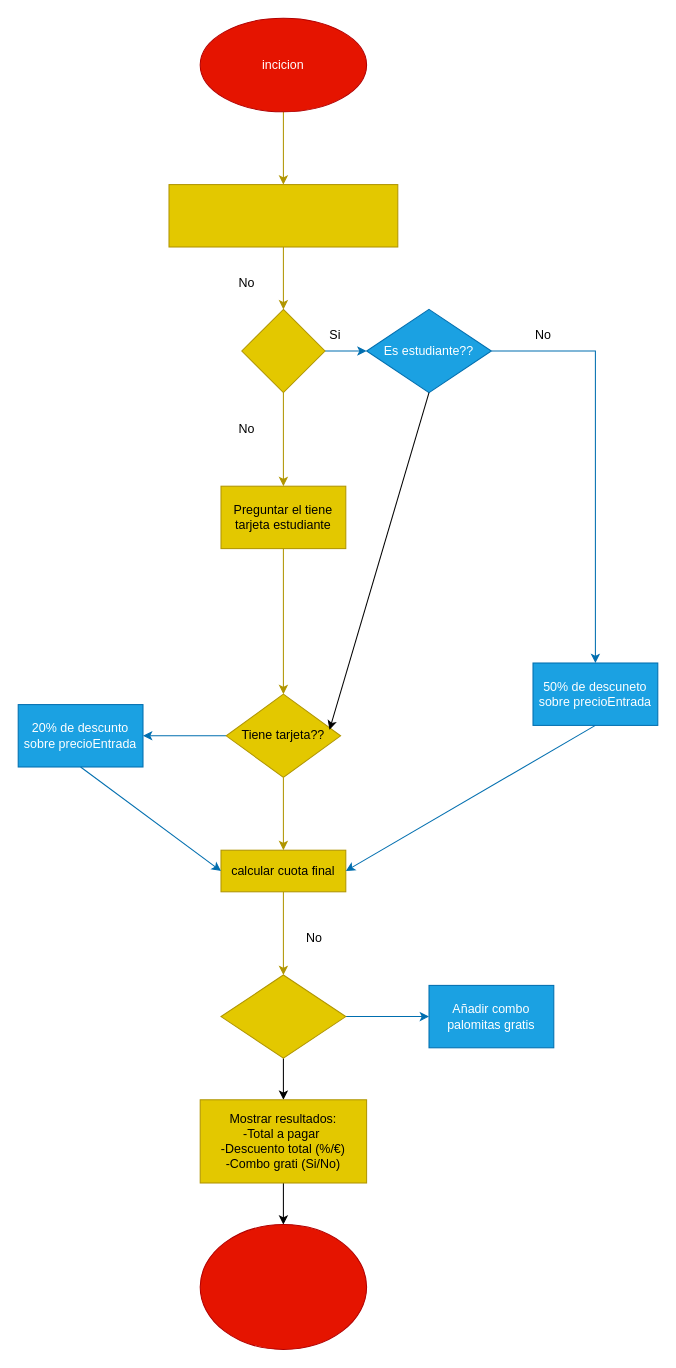
Image size: 676x1368. Some labels were removed from this diagram. The shapes that lost their labels are listed below. From the top down, each one's box as (x1, y1, x2, y2) in pixels, then its label:
(168, 184, 398, 247): Numero de entradsa (5) = Numero entrasdas*precioEntrada(8€)
(241, 308, 325, 393): Es miercoels??
(220, 974, 346, 1058): Total fina >= 30 ??
(199, 1224, 367, 1349): FIN
